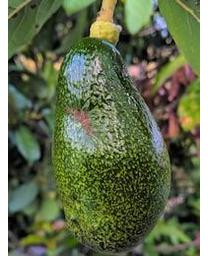avocado: (52, 36, 171, 253)
